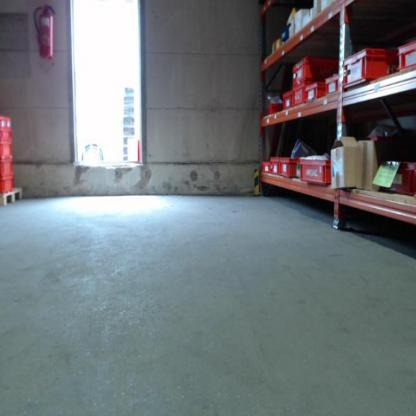pallet: (0, 187, 23, 206)
small_load_carrier: (344, 46, 400, 90), (291, 57, 338, 84), (299, 156, 334, 187), (384, 164, 415, 197), (397, 38, 416, 77), (305, 79, 328, 105), (277, 157, 299, 179), (294, 82, 310, 112), (323, 73, 342, 92), (1, 177, 15, 196), (1, 159, 13, 178), (280, 90, 293, 107), (259, 159, 271, 176), (0, 116, 14, 130), (267, 102, 282, 115), (270, 154, 277, 180), (2, 144, 13, 160), (0, 130, 12, 143)
